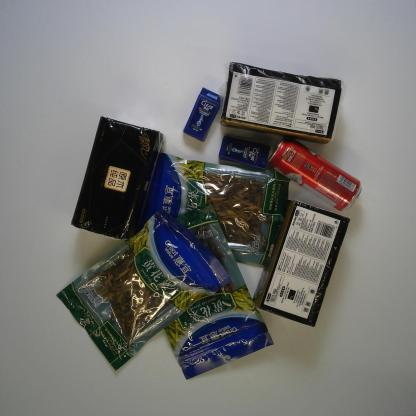Alcohol: (268, 136, 363, 212)
Dried Food: (56, 207, 232, 373), (144, 202, 274, 379), (132, 152, 294, 266)
Personal Hygiene: (182, 87, 223, 140), (218, 135, 272, 170)
Tissue: (252, 199, 350, 328), (70, 116, 166, 241), (220, 61, 342, 145)
